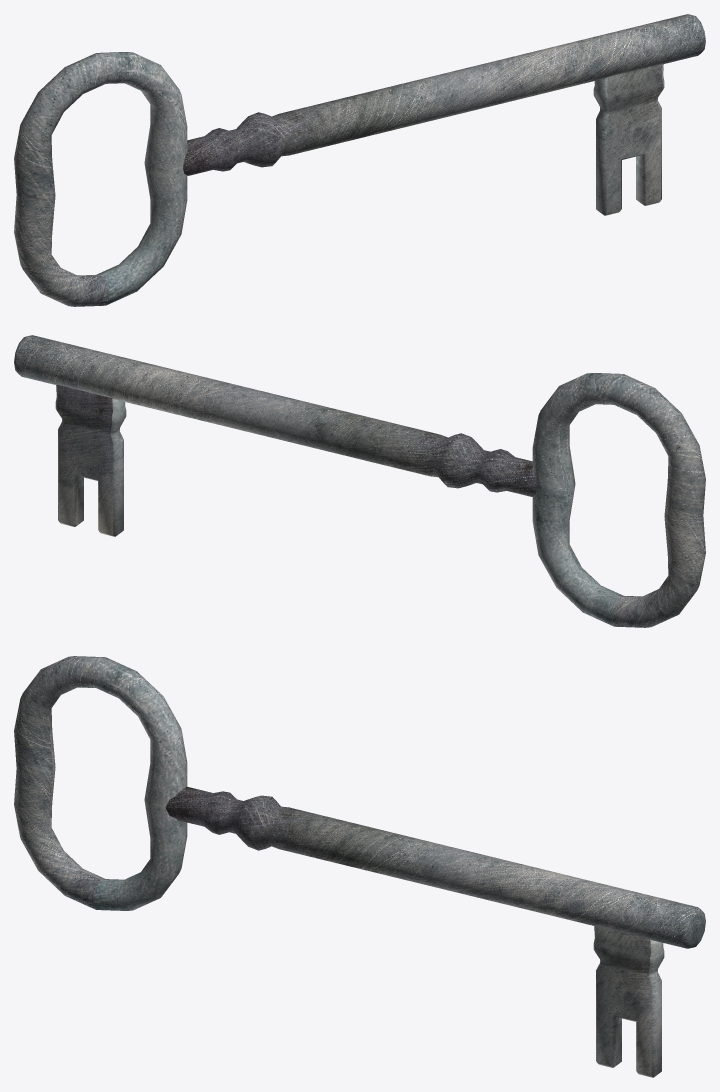
File: key.obj
3 renders of one model, top to bottom at view 1: azimuth 30°, elevation 25°; view 2: azimuth 150°, elevation 25°; view 3: azimuth 330°, elevation 25°, orthographic.
Parts seen in each view (by area): view 1: Key; view 2: Key; view 3: Key.
Boxes of the visible parts, <box> form: Key: <box>14,14,705,306</box>; Key: <box>14,335,705,627</box>; Key: <box>14,656,705,1077</box>.
Size of the model in its own units: 0.2372 by 0.094 by 0.0168.
1 material, 1 textured.
